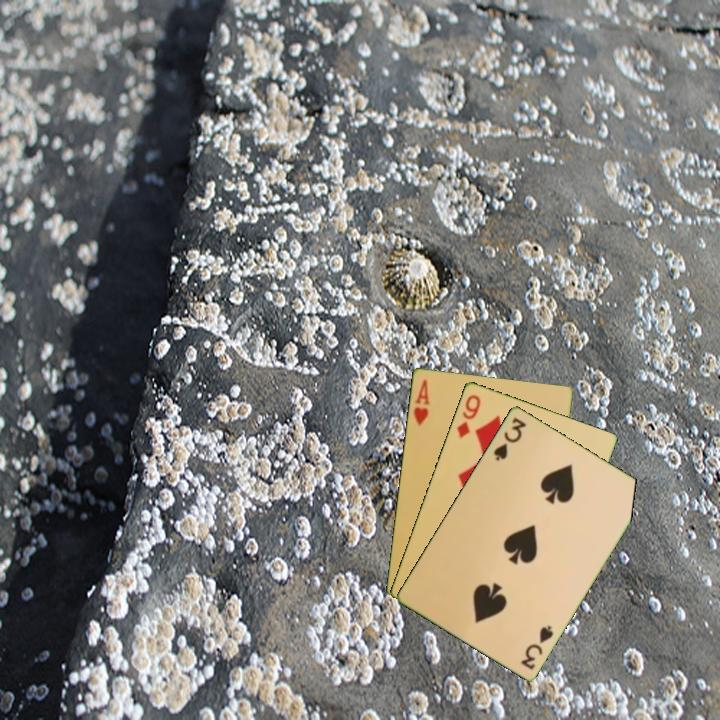3s: (517, 621, 556, 672), (490, 413, 529, 463)
9d: (453, 391, 483, 441)
Ah: (410, 376, 432, 428)
